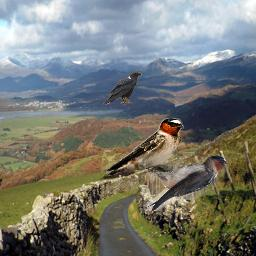Crow: (102, 71, 142, 106)
Swallow: (144, 155, 231, 211), (105, 117, 184, 176)
